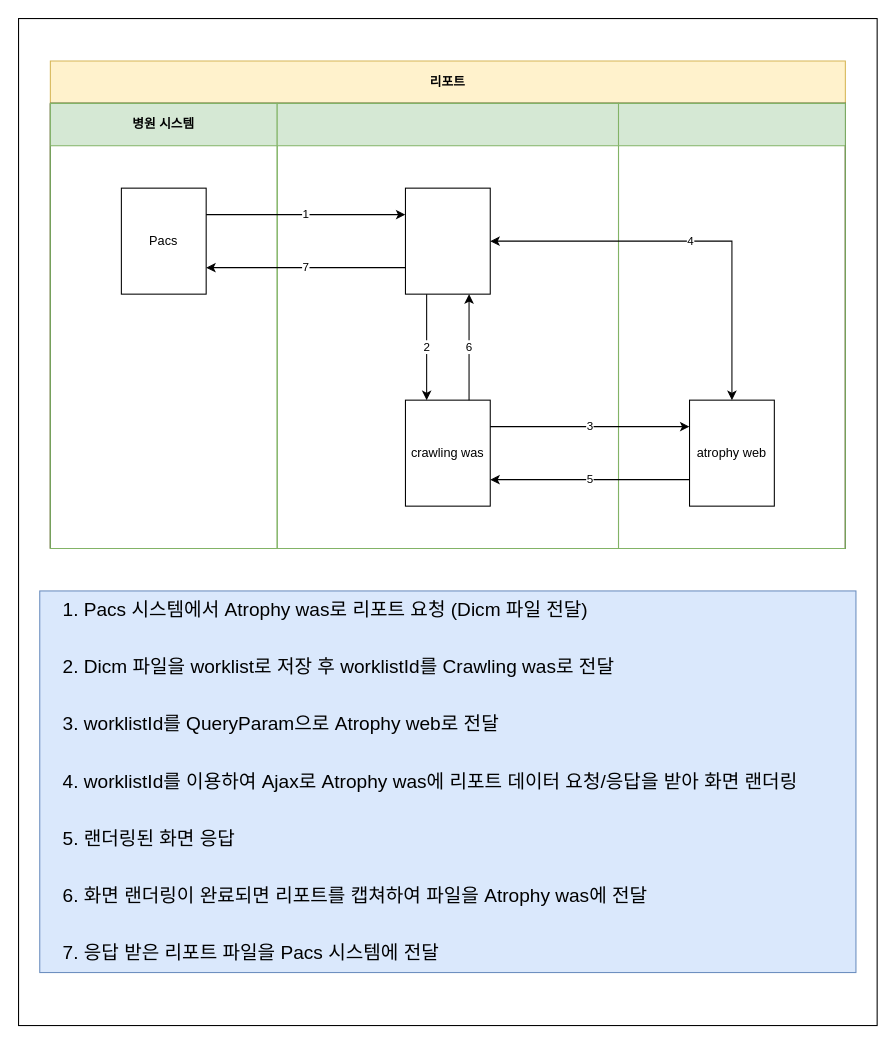
Image size: 896x1044. Some labels were removed from this diagram. Here are the shapes that lost their labels. From the top down, the box of each, then its label:
(404, 187, 490, 294): atrophy was
(276, 102, 619, 549): 휴런 (Backend)
(617, 102, 845, 549): 휴런 (Frontend)
